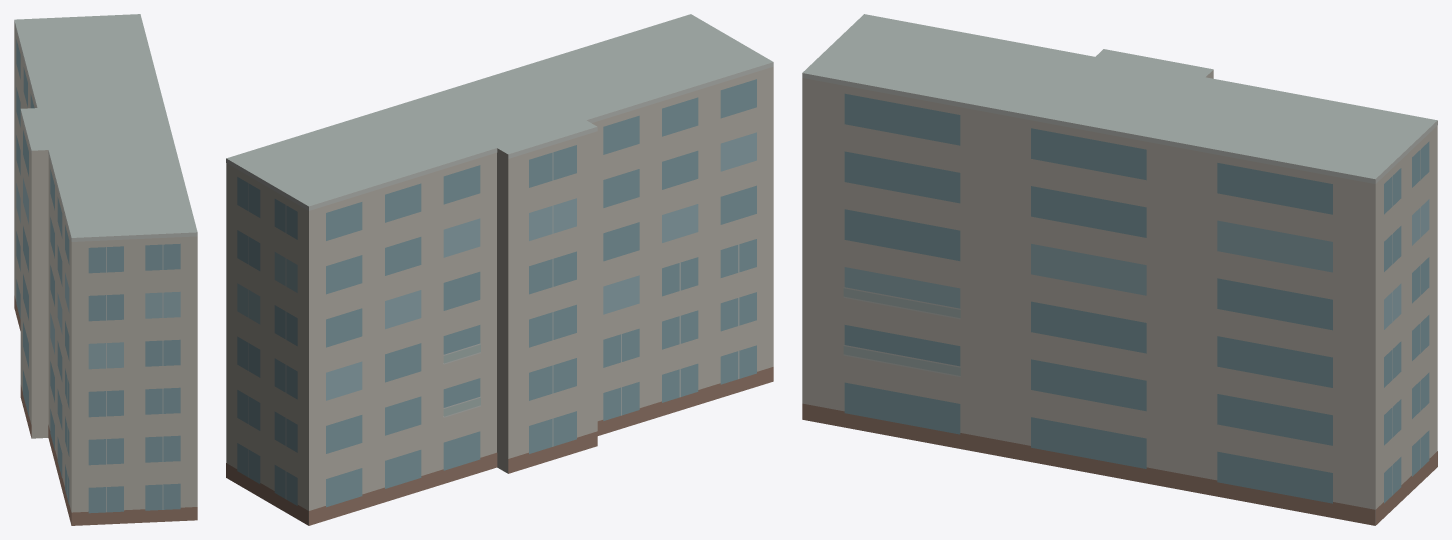
File: survey-upis-32564293.glb
3 renders of one model, left to right at view 1: azimuth 30°, elevation 25°; view 2: azimuth 150°, elevation 25°; view 3: azimuth 270°, elevation 25°, orthographic. The views are drawn at different scales.
Parts seen in each view (by area): view 1: survey-upis-32564293.tmp; view 2: survey-upis-32564293.tmp; view 3: survey-upis-32564293.tmp.
Part boxes in pixels (x1,y1,x2,y2): survey-upis-32564293.tmp: (14, 14, 197, 525); survey-upis-32564293.tmp: (226, 14, 773, 525); survey-upis-32564293.tmp: (802, 14, 1437, 525).
Size of the model in its own units: 17.69 by 17.3 by 28.75.
